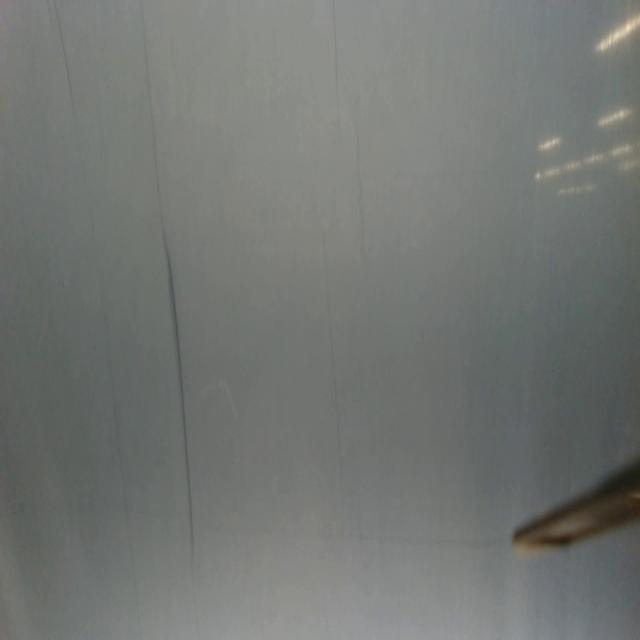crease: (139, 0, 198, 595), (81, 165, 139, 605), (318, 230, 347, 488), (47, 0, 80, 123), (329, 0, 342, 136), (353, 125, 367, 247)
